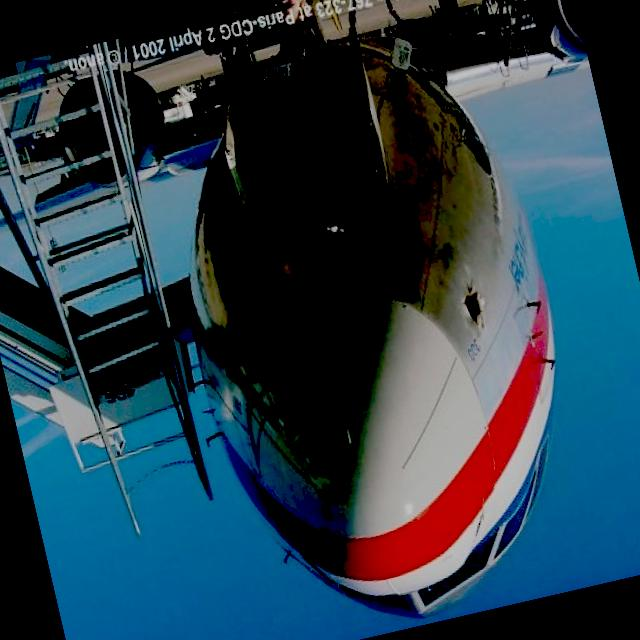crack: (253, 271, 278, 321), (462, 286, 483, 331)
